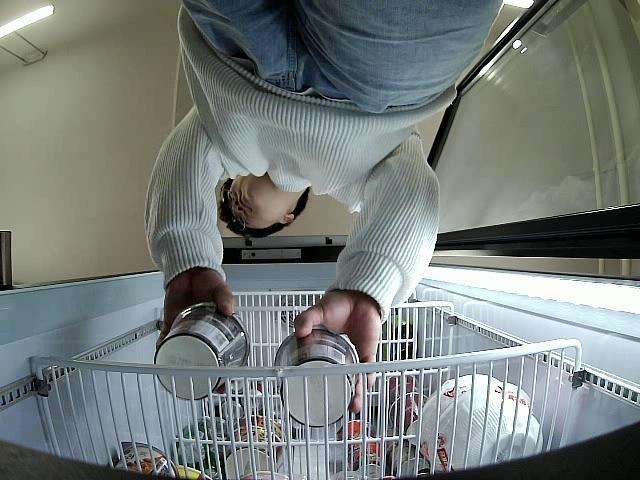08_buldak_S: (154, 302, 250, 400), (272, 329, 360, 428)
